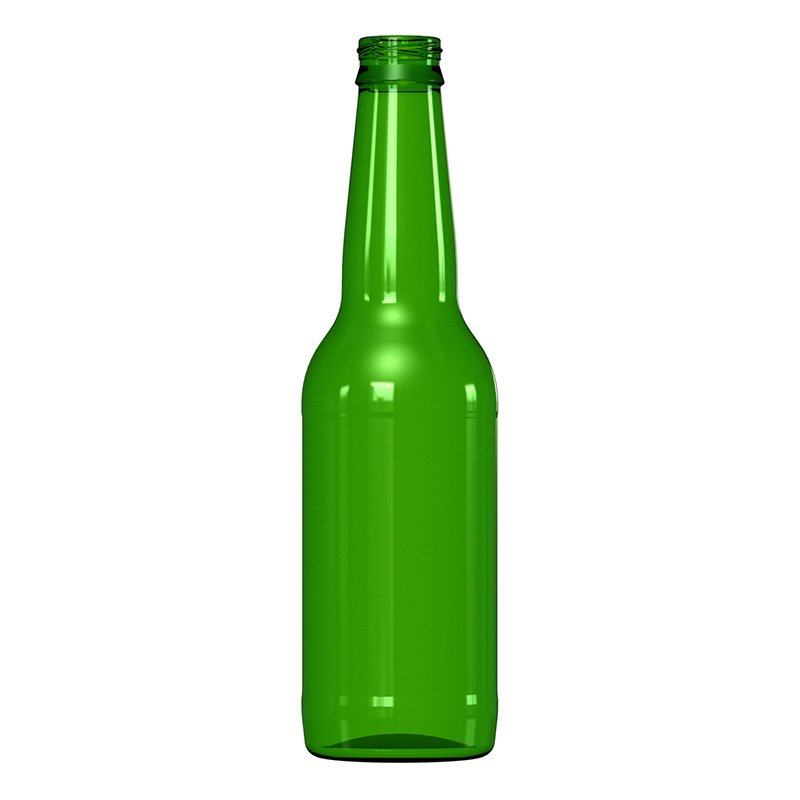glass_bottle: (286, 28, 513, 773)
